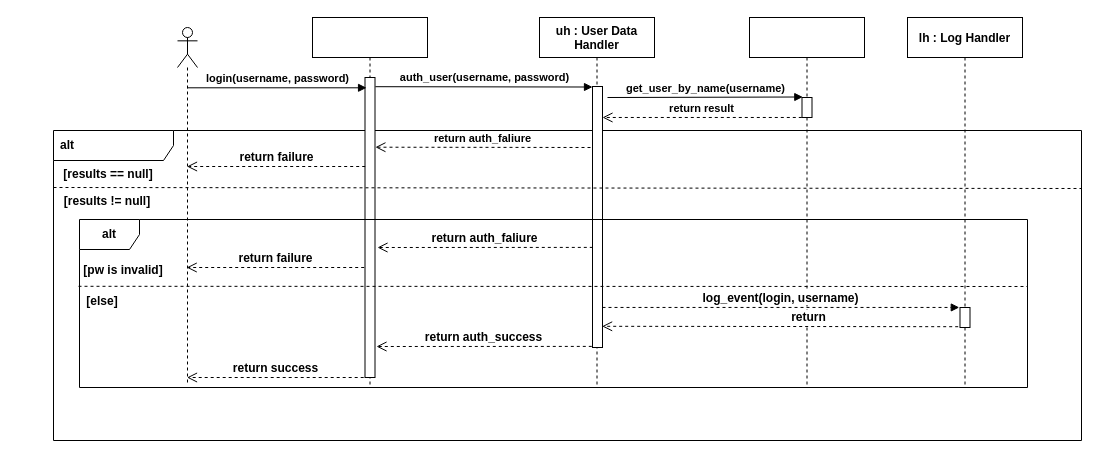
The diagram is 1100 pixels wide and 458 high, and some of its shapes have lost their labels. Here are the shapes that lost their labels. From the top down, the box of each, then its label:
(312, 16, 428, 388): ac : Authentication Component
(748, 16, 864, 388): udb : User Database
